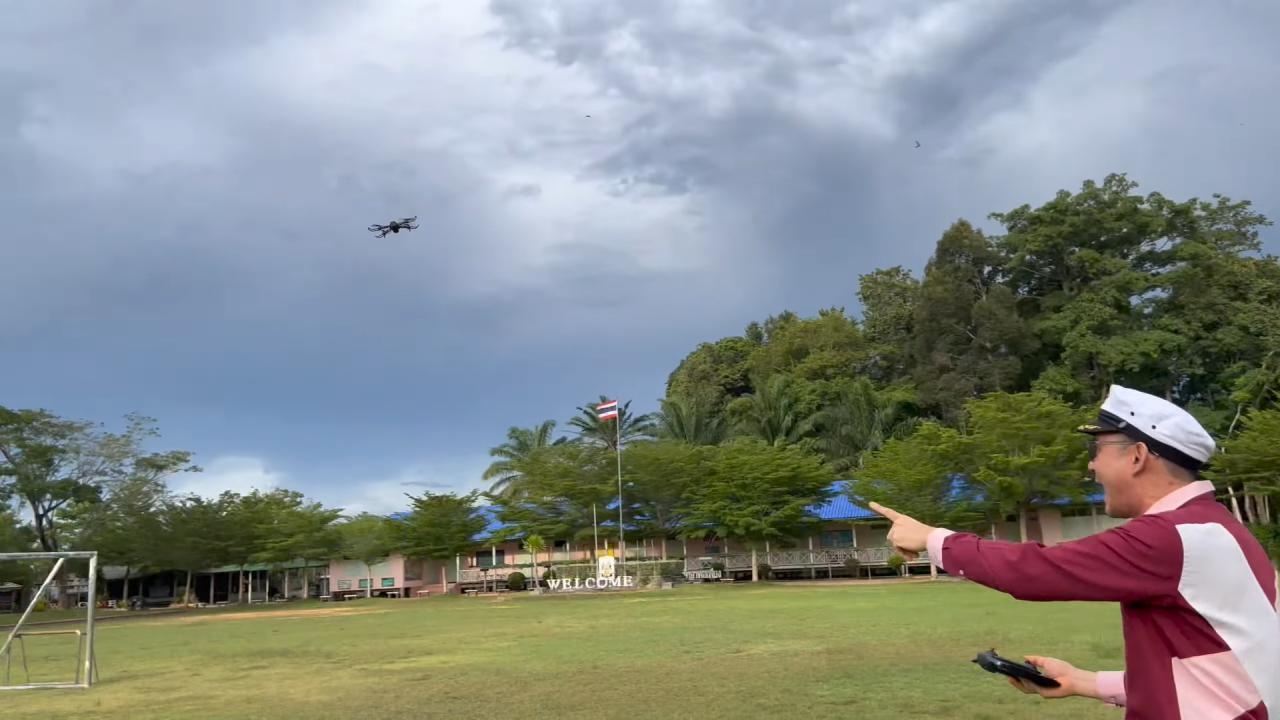Drone: (358, 206, 428, 248)
